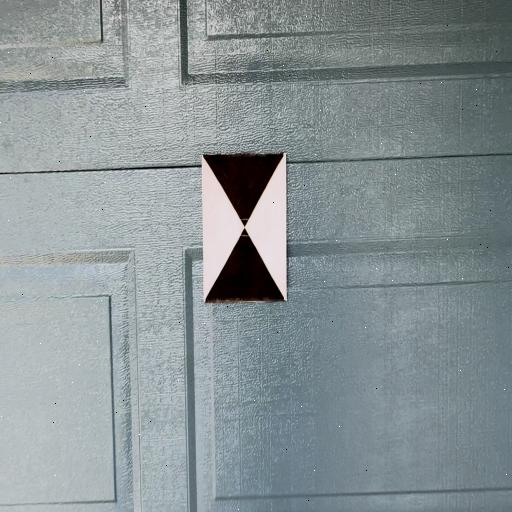target: (201, 155, 287, 301)
